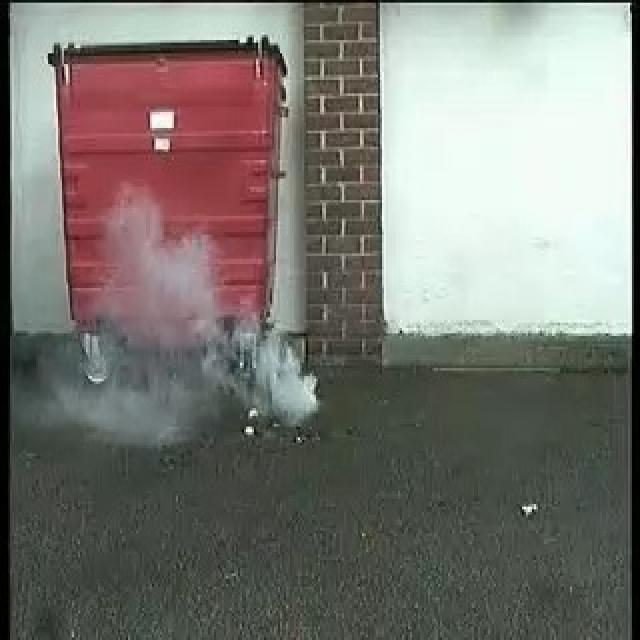smoke: (120, 222, 314, 426)
